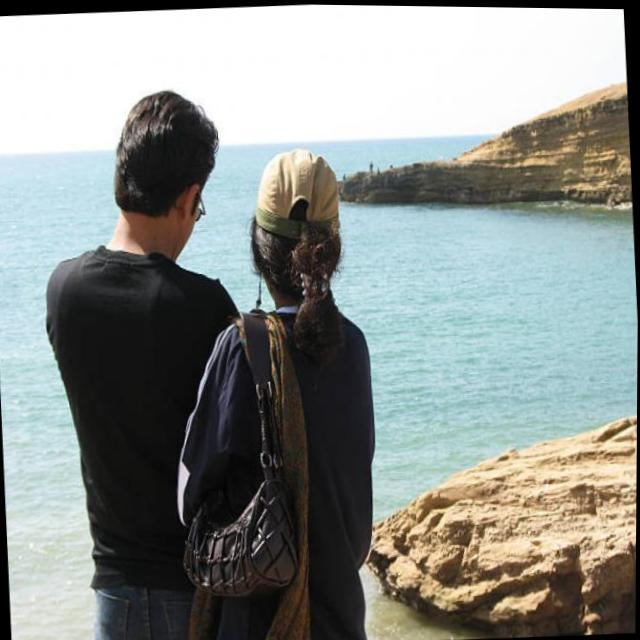no helmet: (237, 130, 355, 317)
